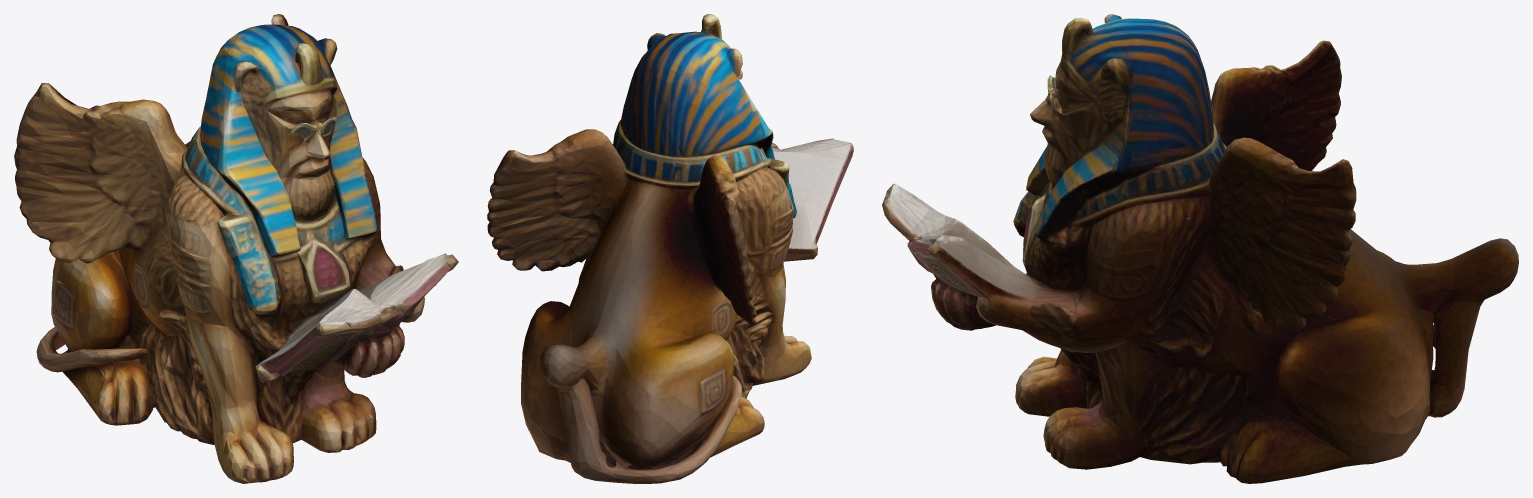
Rendered from oasisSphinxGuard.glb.
3 views of the same model, side by side, from view 1: azimuth 30°, elevation 25°; view 2: azimuth 150°, elevation 25°; view 3: azimuth 270°, elevation 25° (orthographic). The views are drawn at different scales.
Visible parts, largest first — view 1: world; view 2: world; view 3: world.
Boxes of the visible parts, x1,y1,x2,y2 form: world: (14, 14, 458, 483); world: (487, 14, 853, 483); world: (882, 14, 1518, 483).
Bounding box in the file's own units: 0.5631 × 0.7253 × 1.
1 material, 1 textured.
